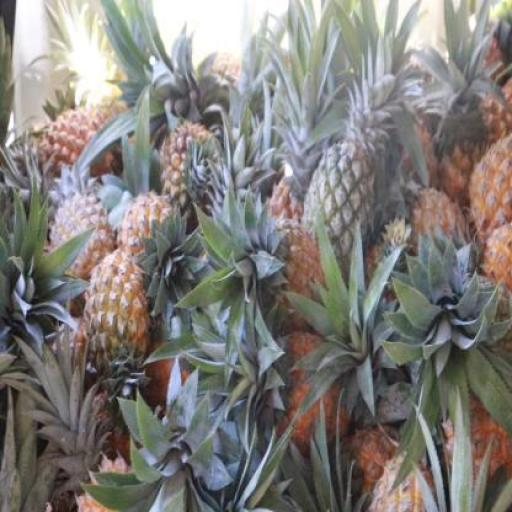Pineapple - v8 v1: (88, 253, 150, 378)
